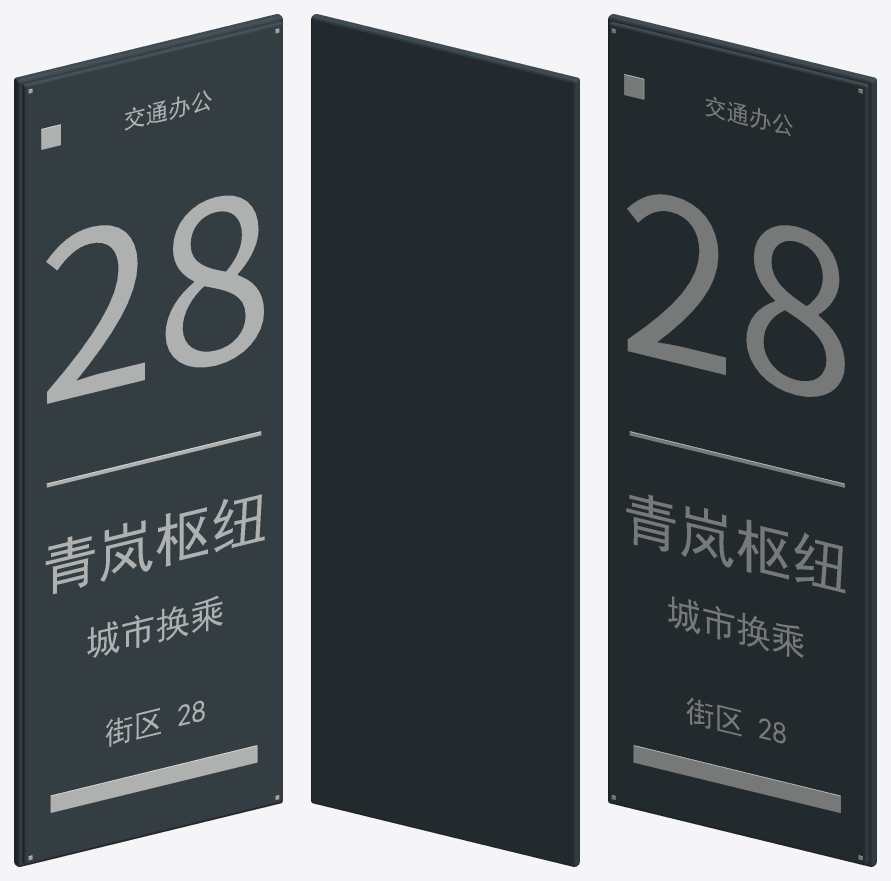
The model's file is DistrictSignQinglan.fbx.
3 views of the same model, side by side, from view 1: azimuth 30°, elevation 25°; view 2: azimuth 150°, elevation 25°; view 3: azimuth 330°, elevation 25° (orthographic).
Parts seen in each view (by area): view 1: DistrictSignQinglan_SC_Metal, DistrictSignQinglan_SC_White; view 2: DistrictSignQinglan_SC_Metal; view 3: DistrictSignQinglan_SC_Metal, DistrictSignQinglan_SC_White.
Part boxes in pixels (x1,y1,x2,y2): DistrictSignQinglan_SC_Metal: (14, 14, 282, 866); DistrictSignQinglan_SC_White: (41, 90, 264, 812); DistrictSignQinglan_SC_Metal: (311, 14, 579, 866); DistrictSignQinglan_SC_Metal: (608, 14, 876, 866); DistrictSignQinglan_SC_White: (624, 74, 845, 812).
Size of the model in its own units: 2.4 by 6.8 by 0.145.
